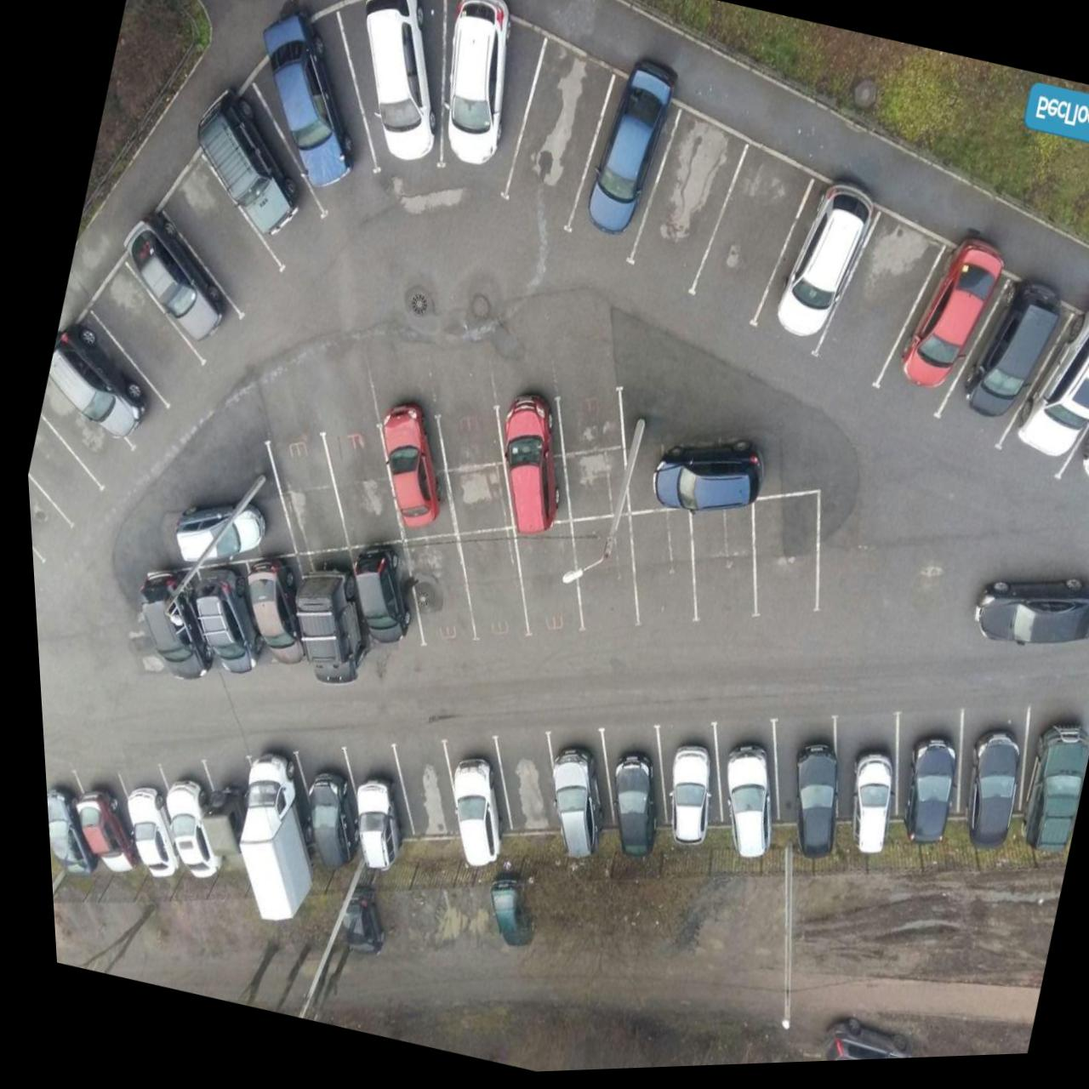cars: (211, 4, 417, 224), (163, 73, 355, 272), (859, 221, 1035, 435), (729, 161, 902, 378), (540, 53, 708, 273), (401, 0, 573, 207), (918, 260, 1089, 459), (307, 0, 474, 197), (95, 215, 277, 368), (980, 283, 1089, 499), (30, 324, 179, 462), (469, 377, 589, 534), (205, 541, 331, 680), (344, 399, 467, 536), (247, 420, 368, 556), (103, 561, 229, 689), (326, 540, 442, 672), (275, 549, 391, 673), (163, 557, 272, 686), (138, 756, 241, 869), (692, 723, 804, 823), (96, 757, 195, 870), (277, 736, 373, 851), (222, 740, 318, 851), (51, 770, 146, 880), (526, 729, 634, 825), (938, 710, 1037, 814), (582, 725, 681, 828), (640, 732, 744, 830), (323, 742, 429, 837), (1005, 706, 1089, 824), (430, 736, 530, 835), (877, 716, 975, 814), (756, 726, 853, 822), (181, 754, 271, 857), (818, 731, 905, 822), (46, 769, 112, 876), (1064, 326, 1089, 506)
empty: (606, 91, 775, 308), (791, 205, 964, 406), (672, 136, 828, 335), (493, 37, 629, 230), (139, 154, 298, 315), (57, 268, 224, 410), (654, 483, 780, 643), (413, 395, 537, 542), (299, 413, 426, 555), (548, 500, 664, 648), (605, 496, 714, 650), (721, 487, 840, 621), (433, 518, 542, 663), (544, 380, 651, 524), (495, 513, 601, 652), (385, 529, 488, 650), (378, 742, 484, 842), (480, 731, 587, 830)
